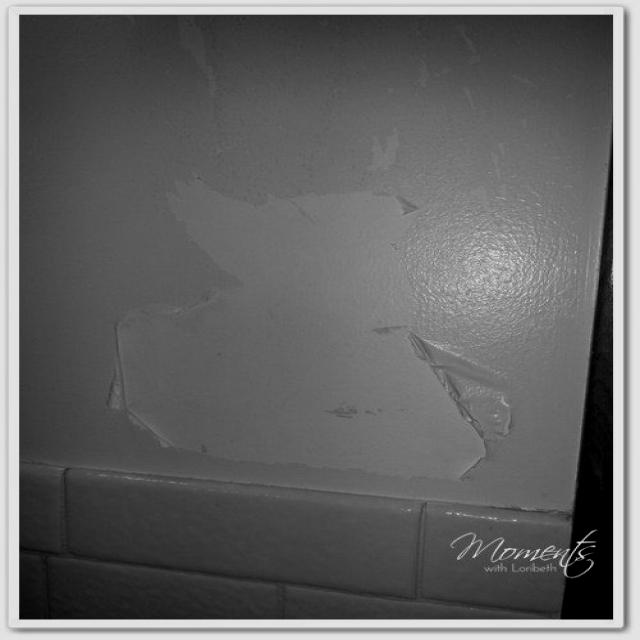peeling paint: (96, 15, 563, 493)
